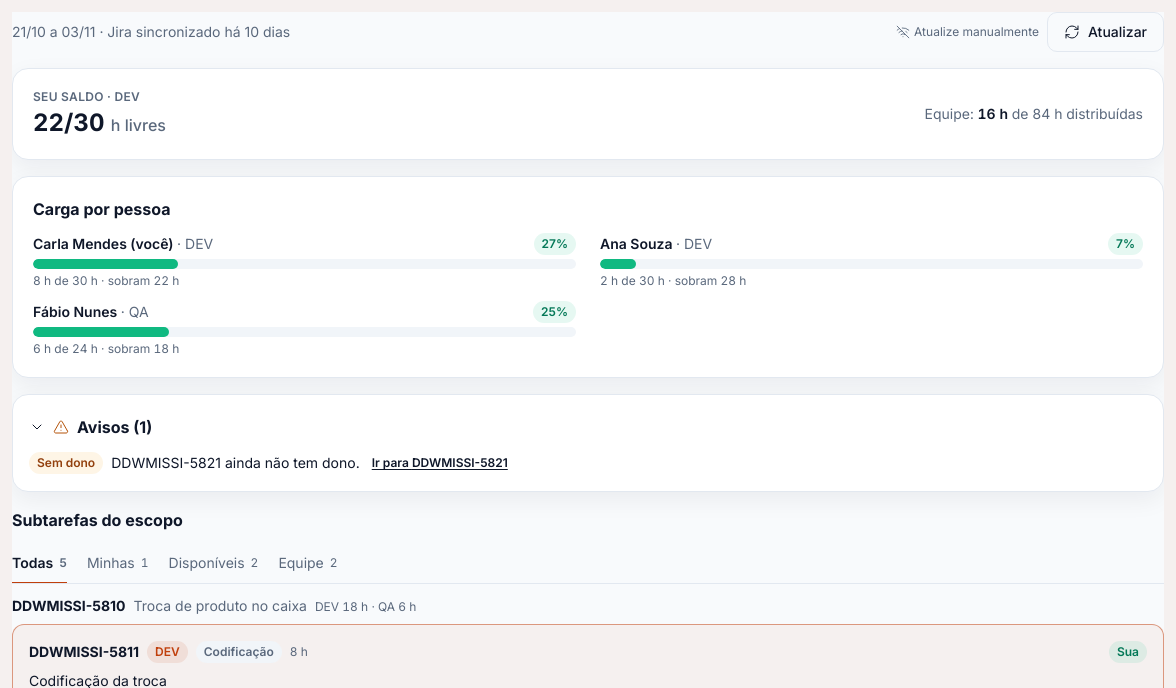
Test: Distribuição: avisos › lista os avisos do servidor, com título pelo código, e recolhe
This screenshot has width=1176, height=688.
Expected: the list item with test id "aviso" shows "Sem dono", [37,455,95,470]
Expected: the list item with test id "aviso" shows "DDWMISSI-5821 ainda não tem dono.", [111,454,360,471]
Click the button "Avisos (1)". click: point(108, 427)
box: [29,411,1147,443]
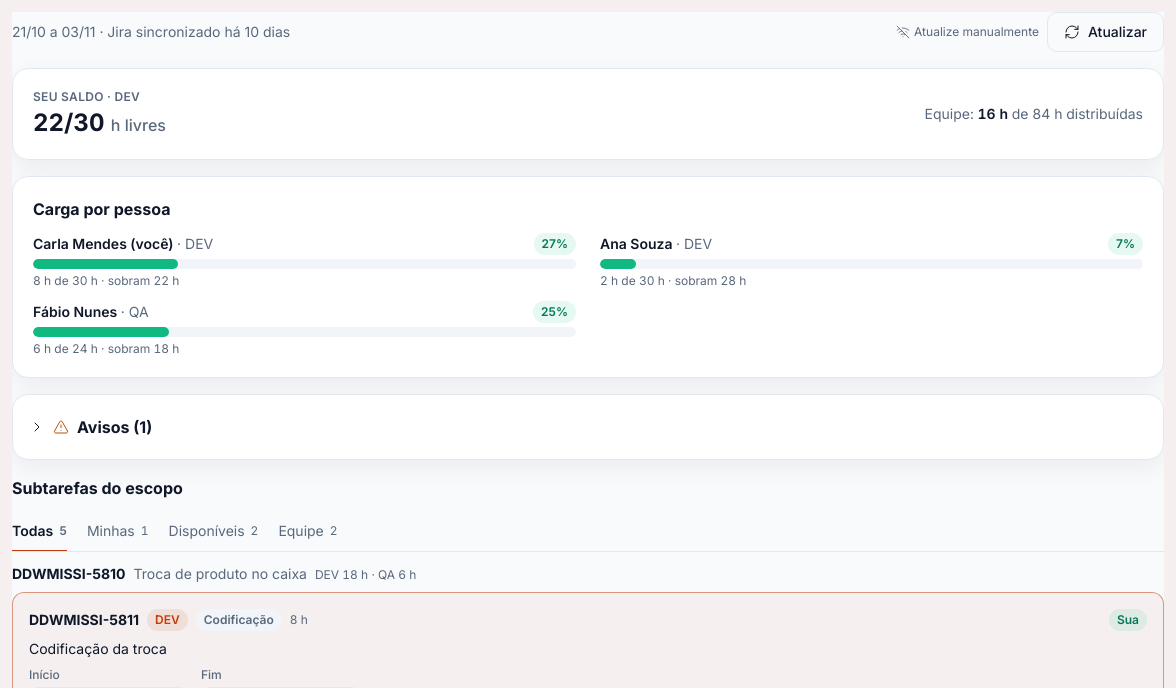
Expected: the list item with test id "aviso" is gone
